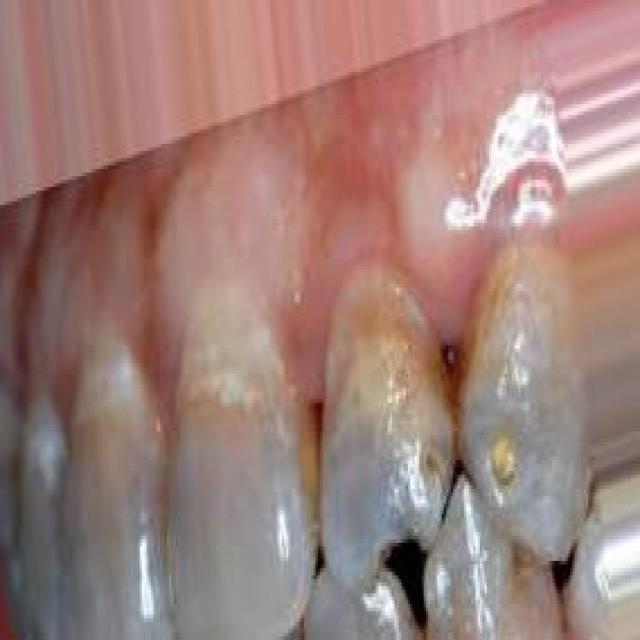caries: (475, 417, 528, 511), (406, 437, 454, 504)
